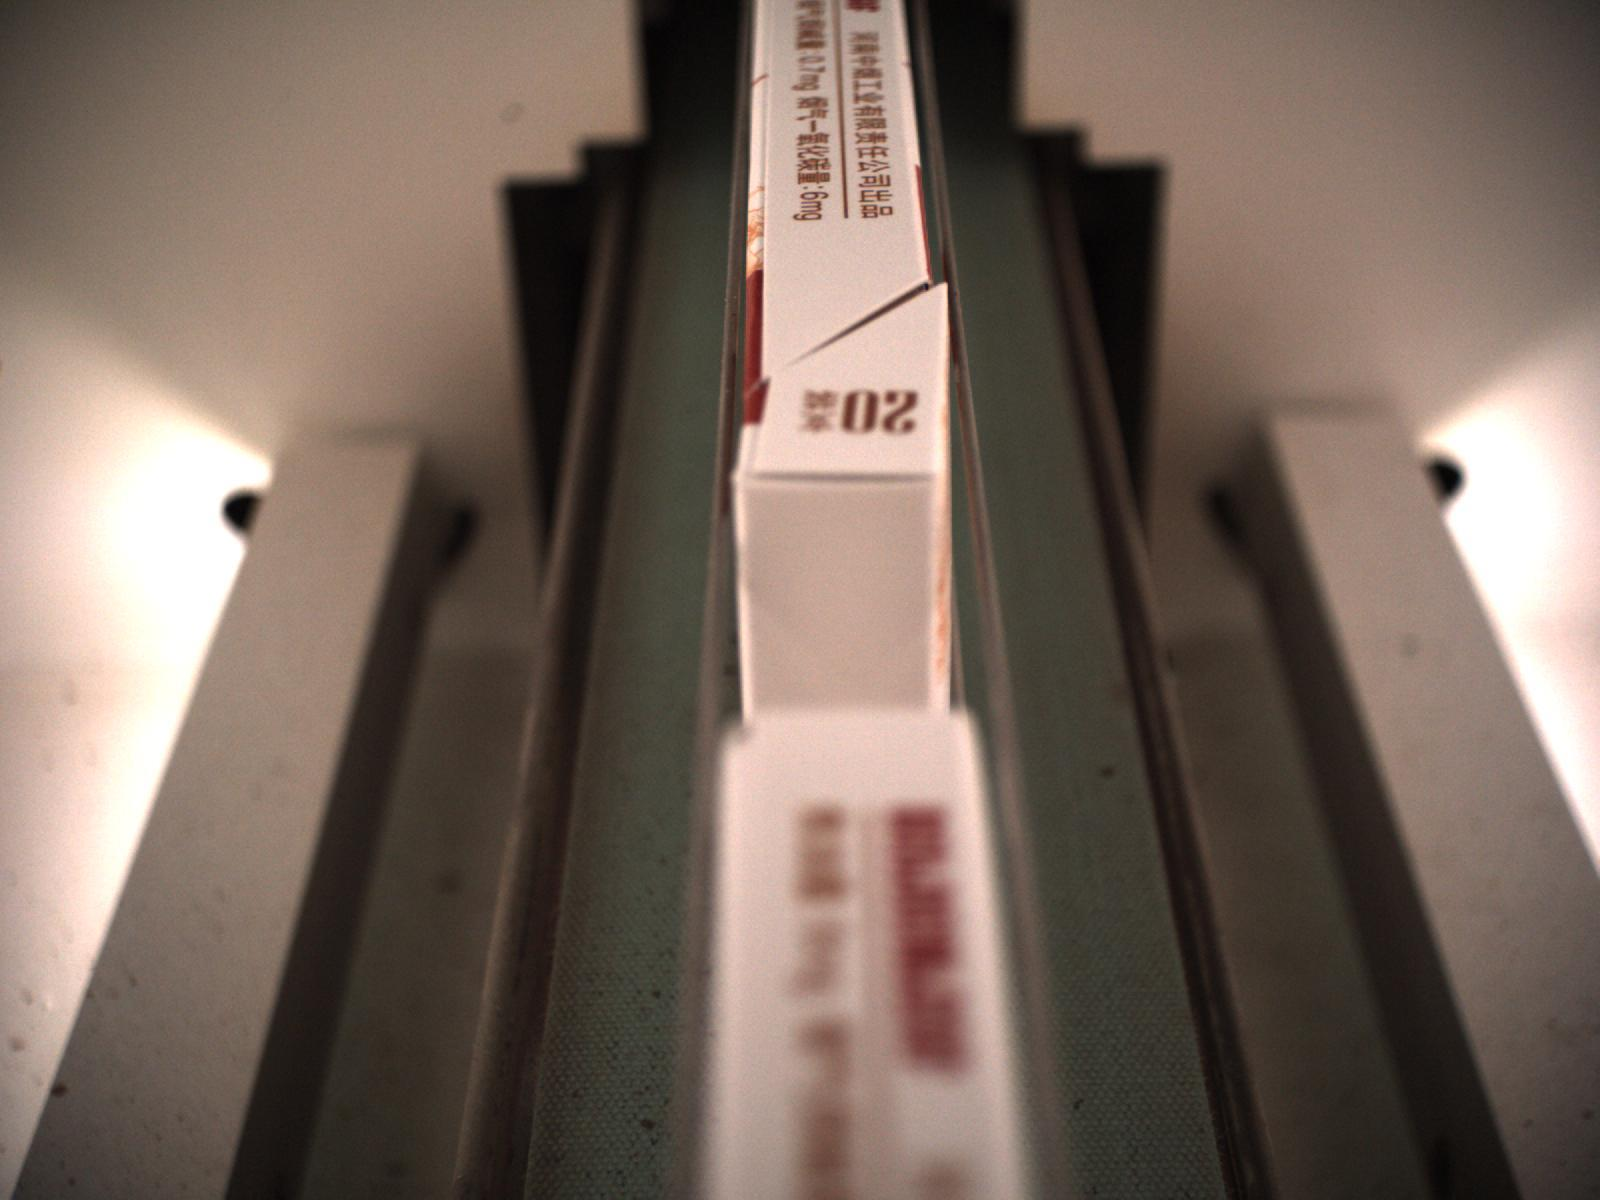headOpen_upper: (749, 274, 951, 397)
